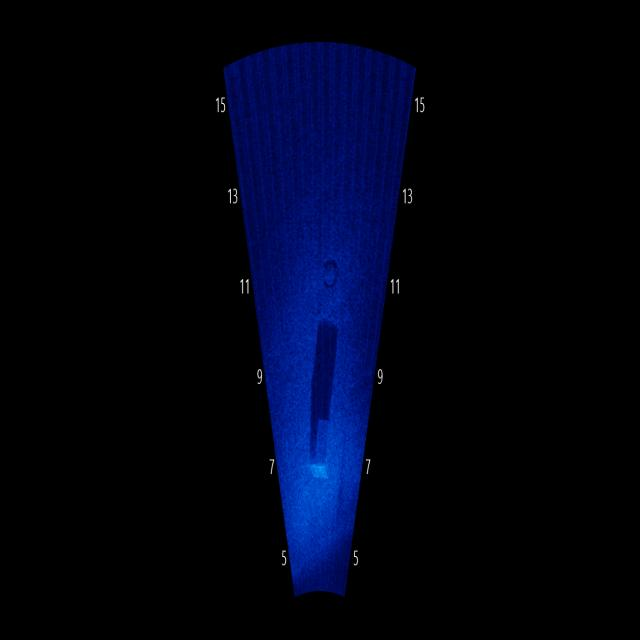square: (299, 407, 343, 485)
